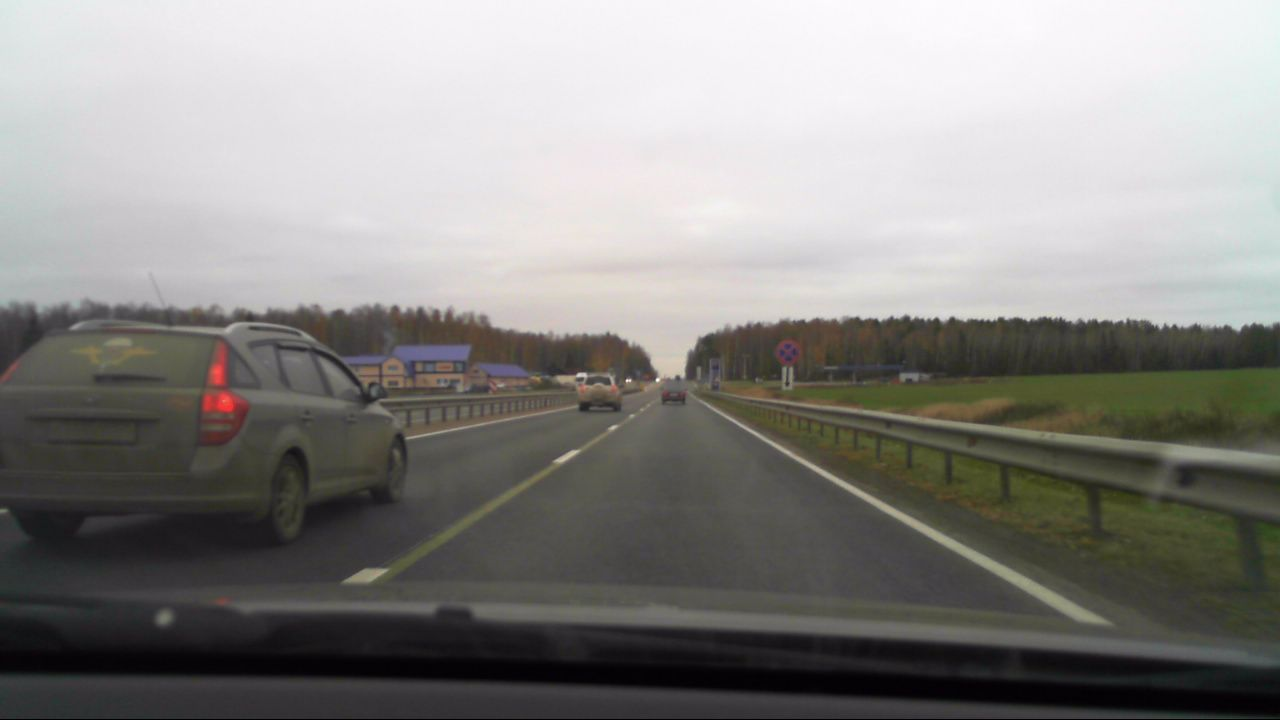No Parking: (776, 339, 801, 367)
